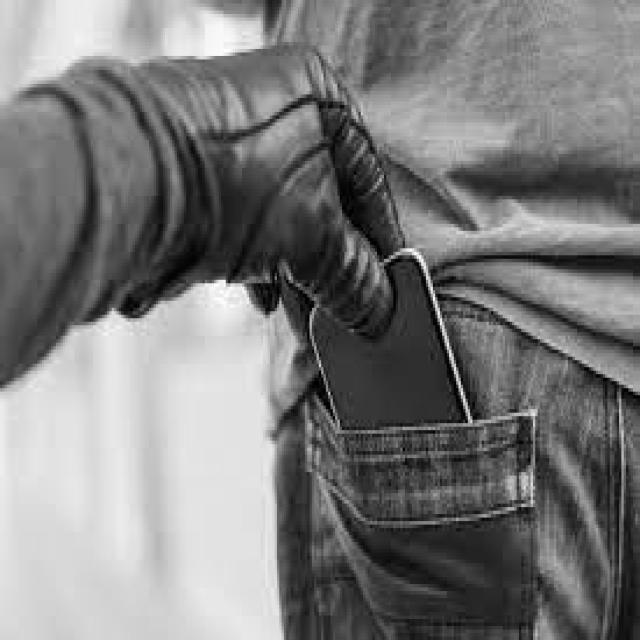No gun_phone: (311, 253, 470, 428)
